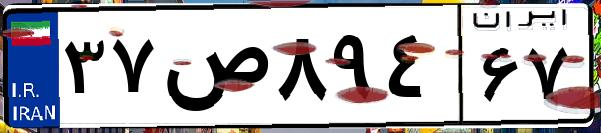3: (57, 26, 110, 100)
4: (385, 28, 445, 110)
6: (475, 38, 525, 113)
7: (525, 38, 570, 115), (110, 28, 158, 98)
8: (270, 28, 330, 110)
9: (330, 28, 385, 110)
ص: (158, 20, 270, 120)
